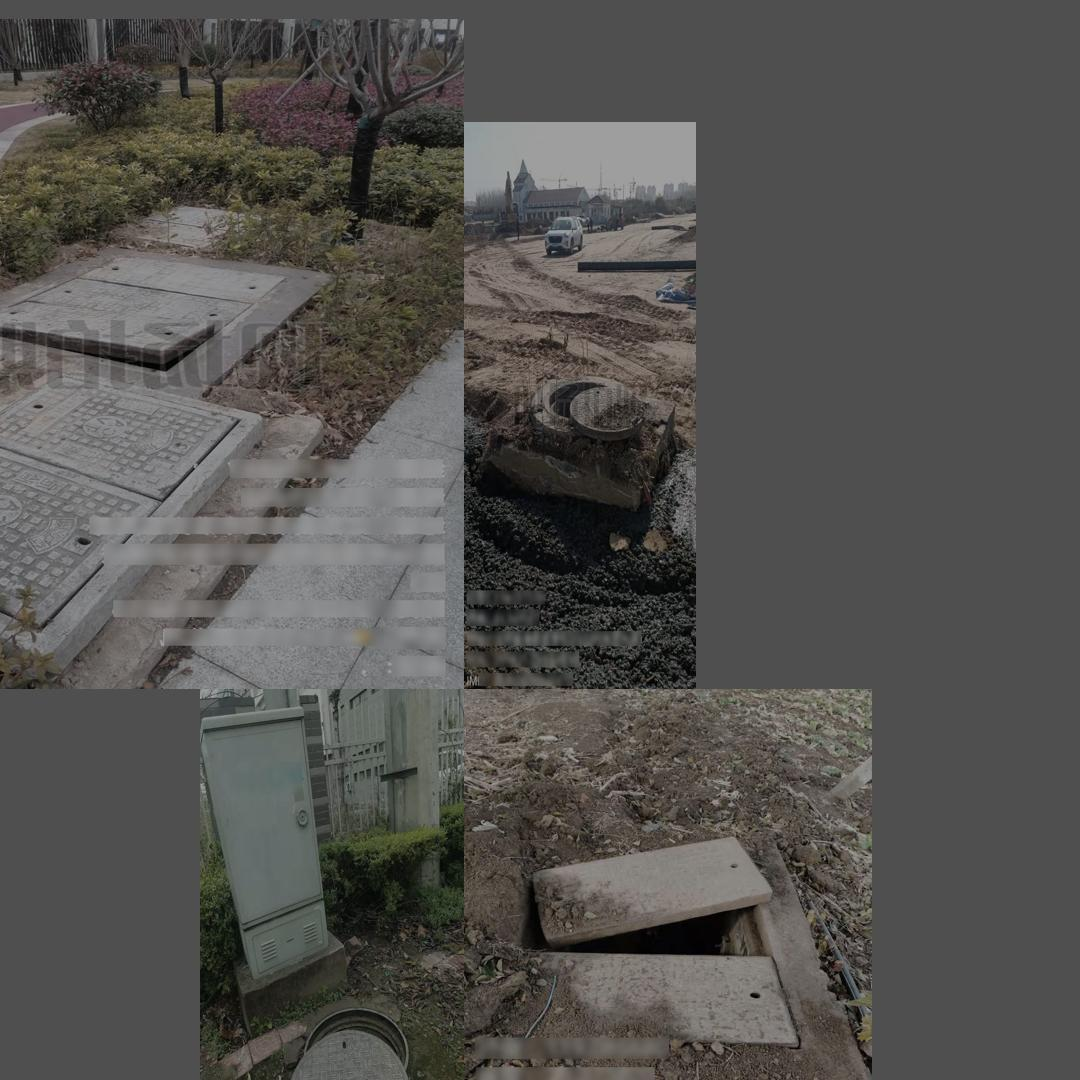good: (0, 365, 264, 670), (0, 315, 21, 467)
uncovered: (484, 827, 872, 1080), (0, 252, 291, 377), (285, 1008, 411, 1080), (529, 375, 645, 441)
